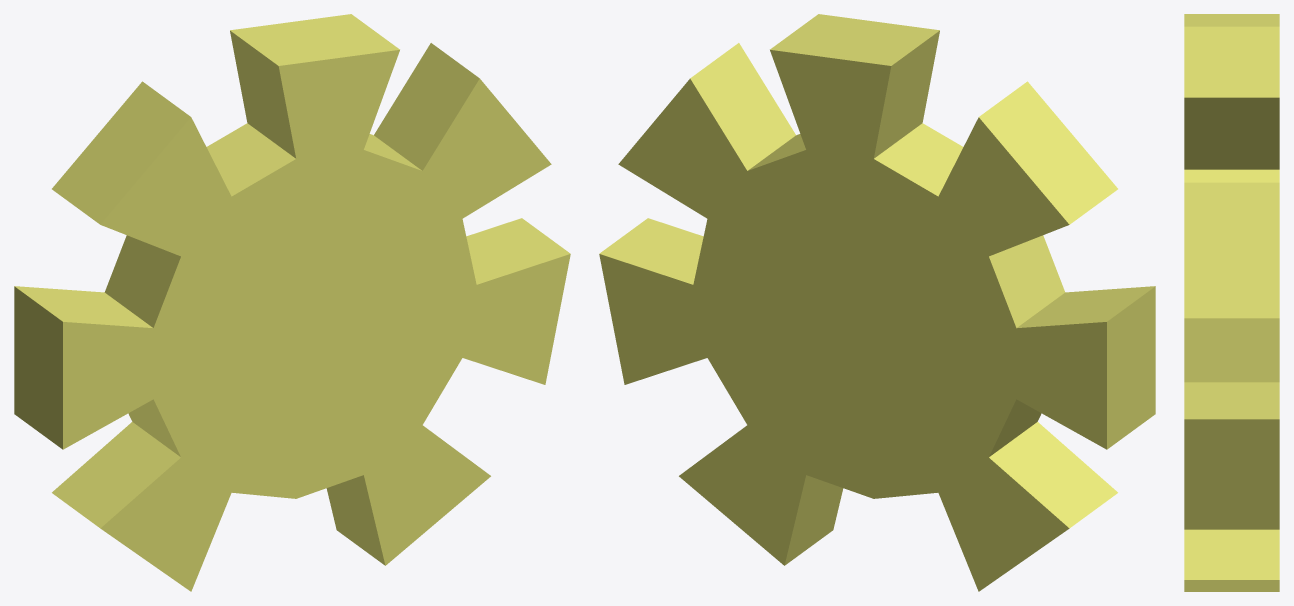
Rendered from Icono sol.fbx.
3 views of the same model, side by side, from view 1: azimuth 30°, elevation 25°; view 2: azimuth 150°, elevation 25°; view 3: azimuth 270°, elevation 25° (orthographic). The views are drawn at different scales.
Parts seen in each view (by area): view 1: Dia; view 2: Dia; view 3: Dia.
Part boxes in pixels (bbox=[...]): Dia: bbox=[14, 14, 570, 591]; Dia: bbox=[599, 14, 1155, 591]; Dia: bbox=[1184, 14, 1279, 591].
Size of the model in its own units: 0.2661 by 0.2634 by 0.0443.
